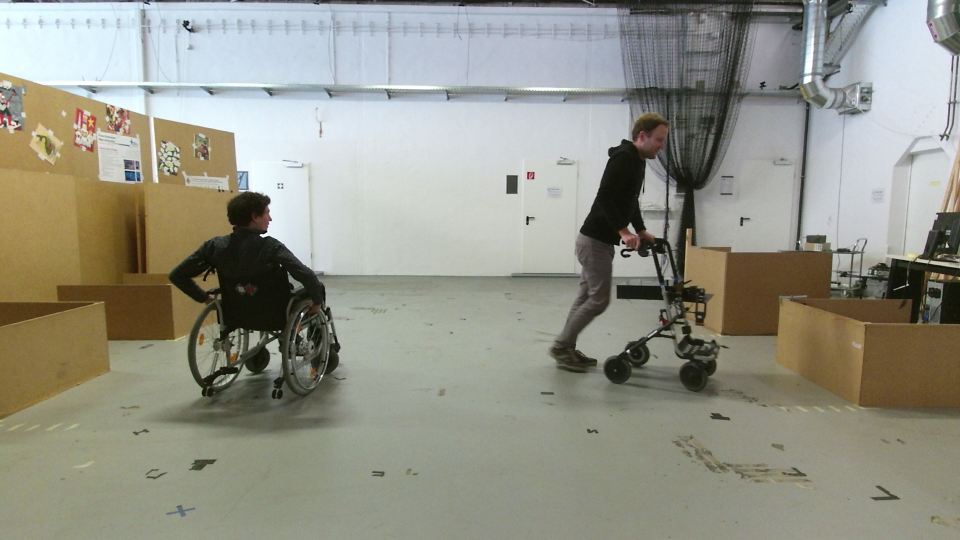wheelchair: (159, 181, 347, 407)
